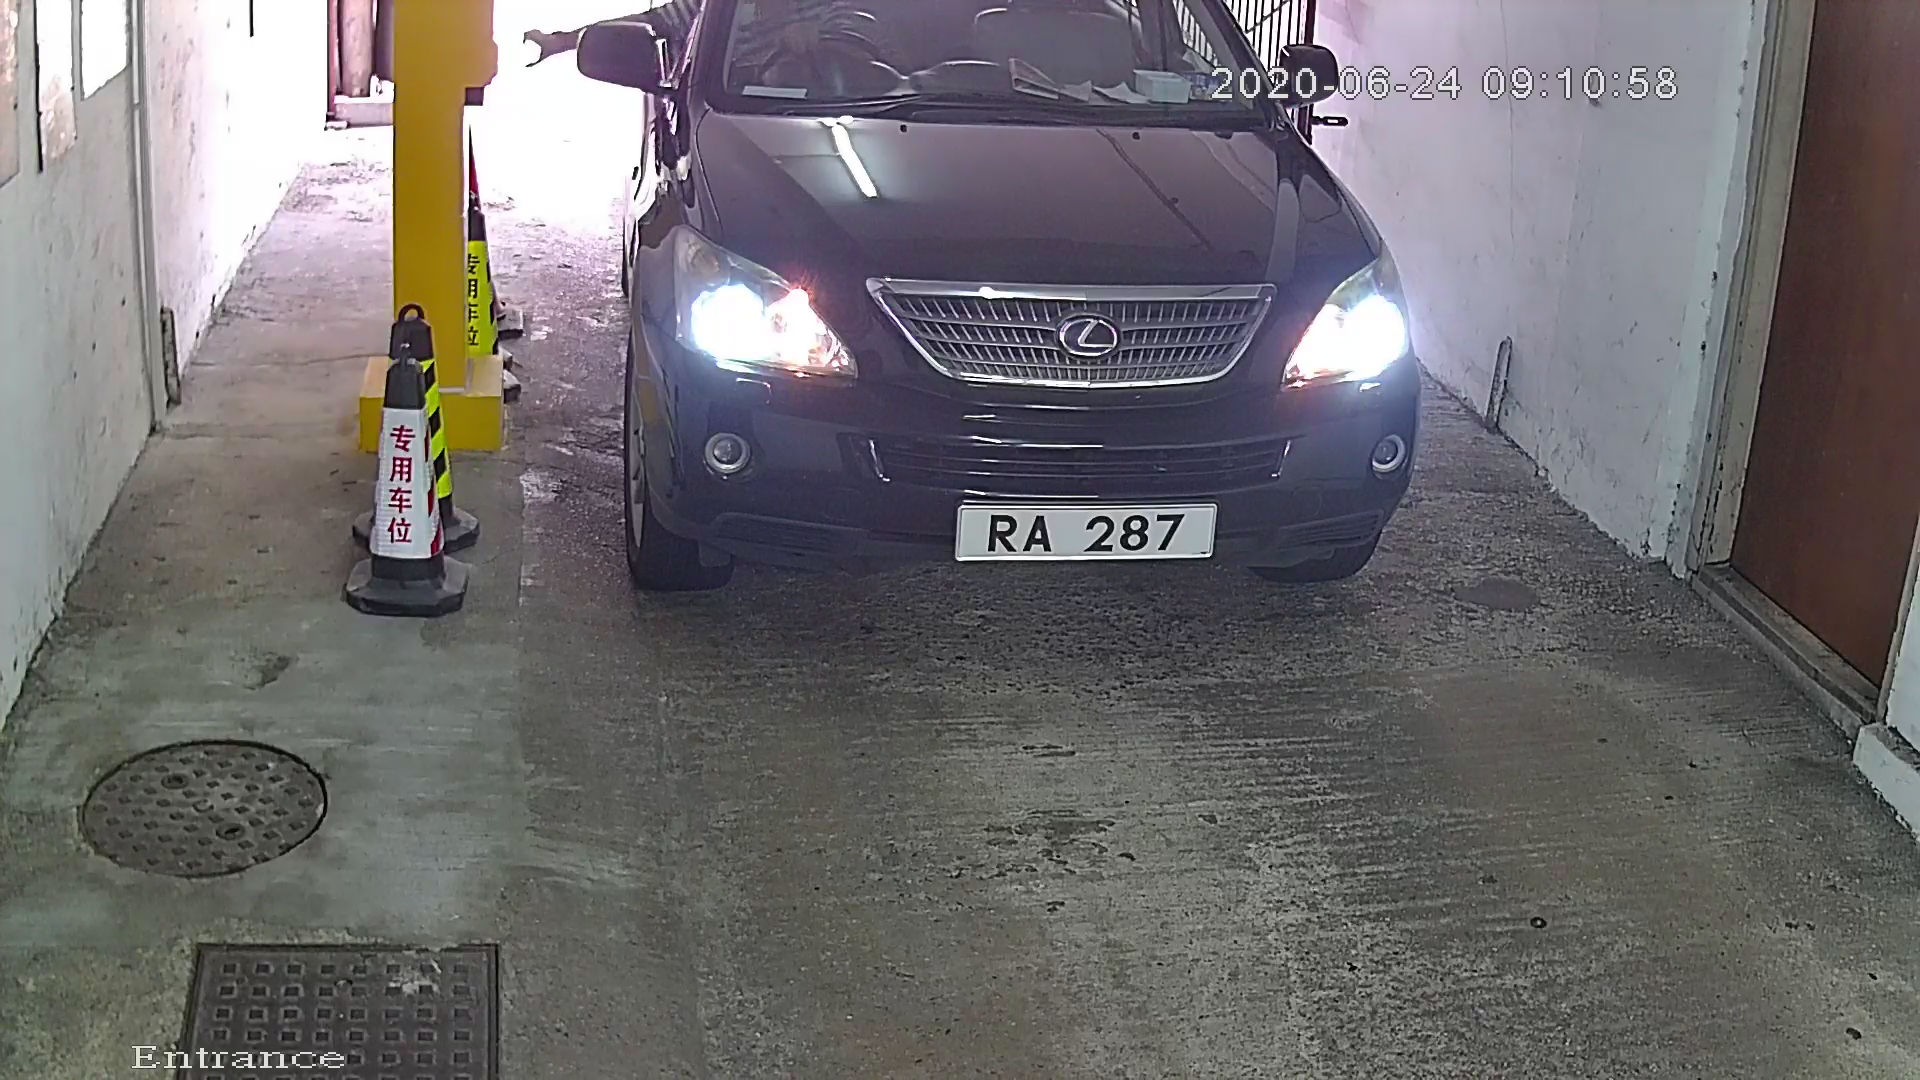privatecar: (634, 1, 1484, 633)
